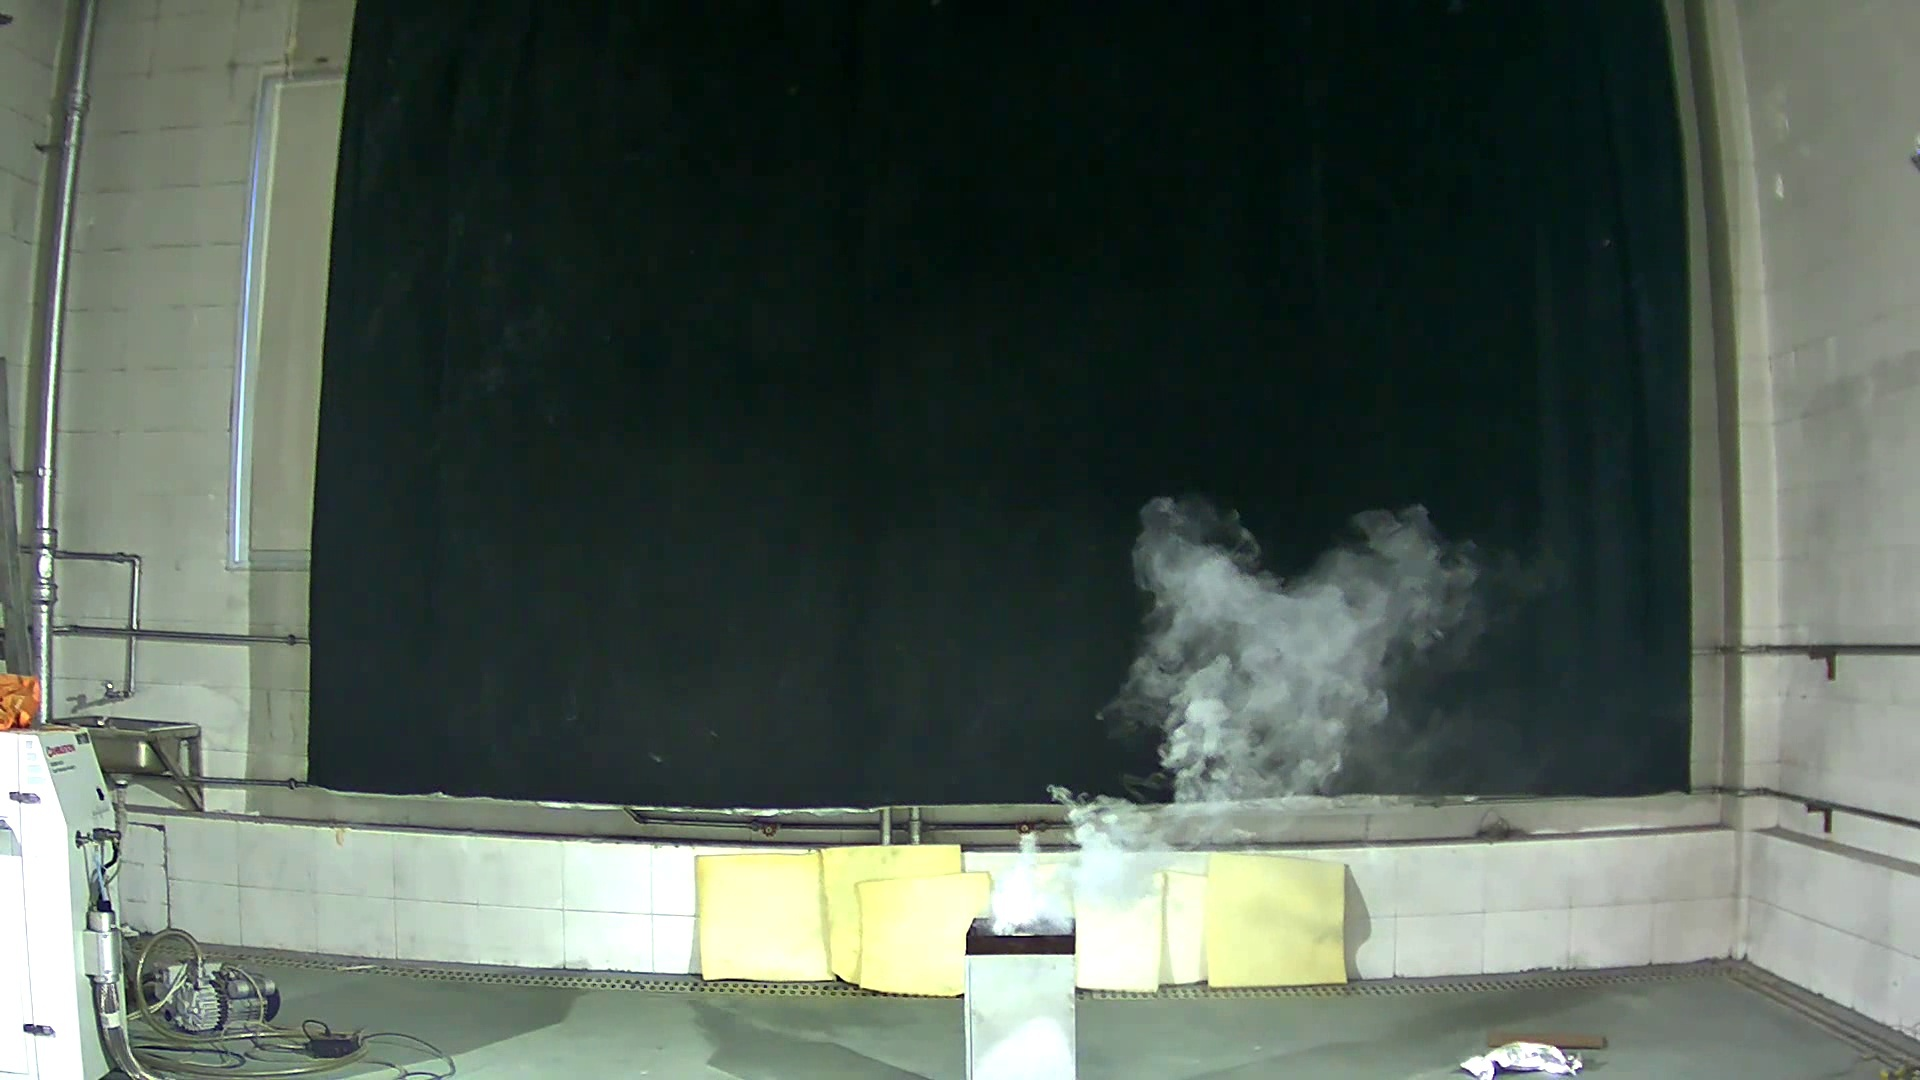smoke: (1002, 469, 1491, 924)
